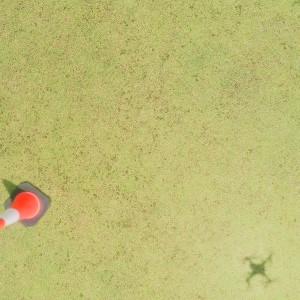traffic cone: (1, 180, 50, 227)
